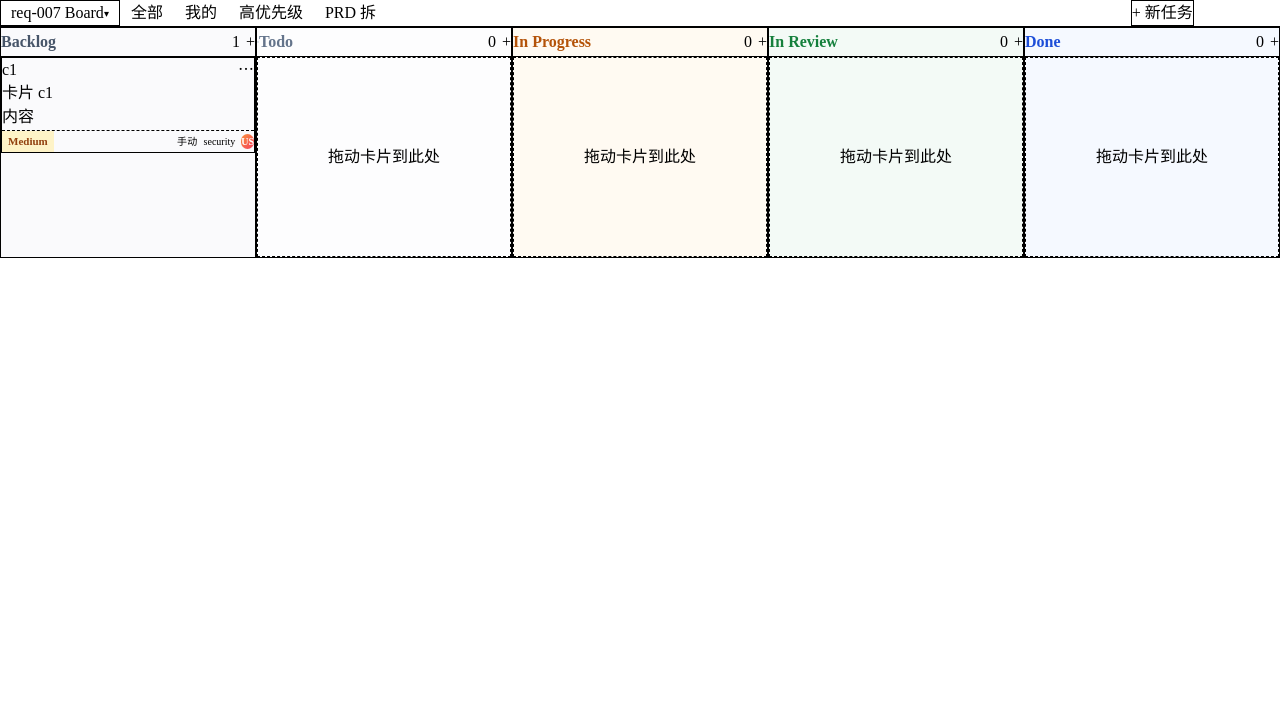
BoardSection · NewTaskModal › [+ 新任务] → 打开 modal
Click the button with test id "board-new-task" at (1162, 13), box x1=1131 y1=0 x2=1194 y2=26
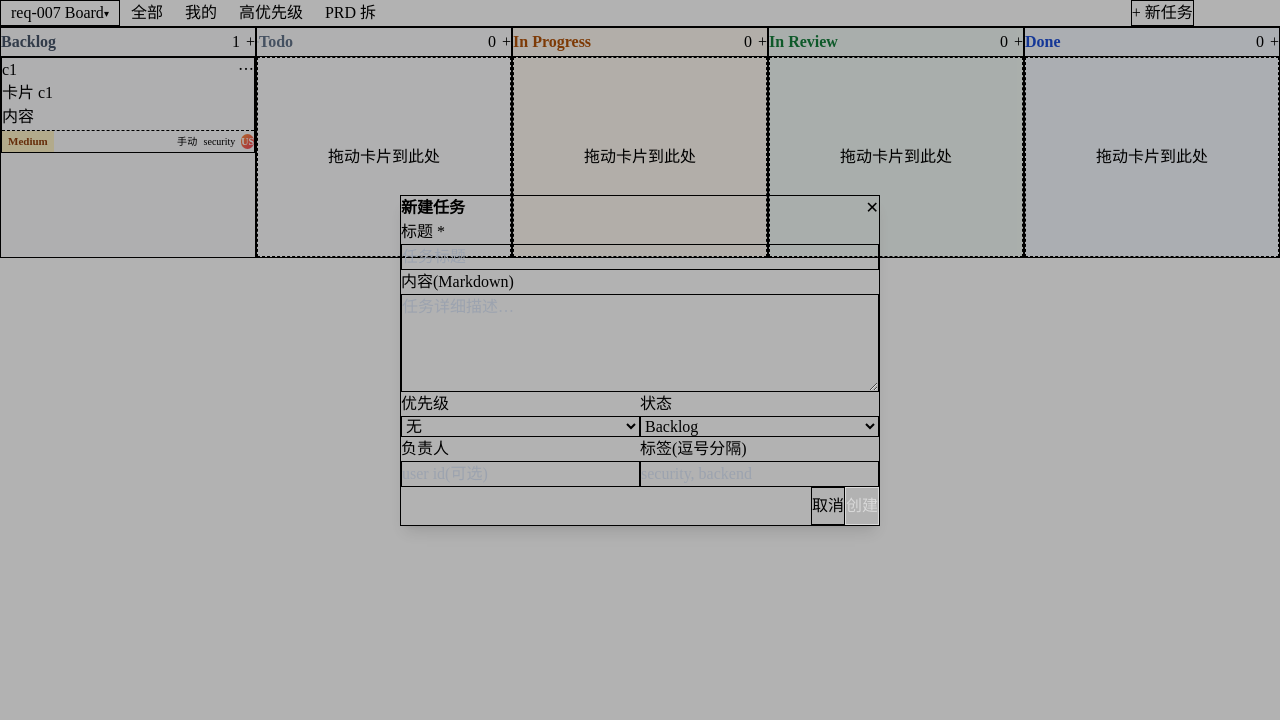
expect the element with test id "board-new-task-modal" is shown: met
